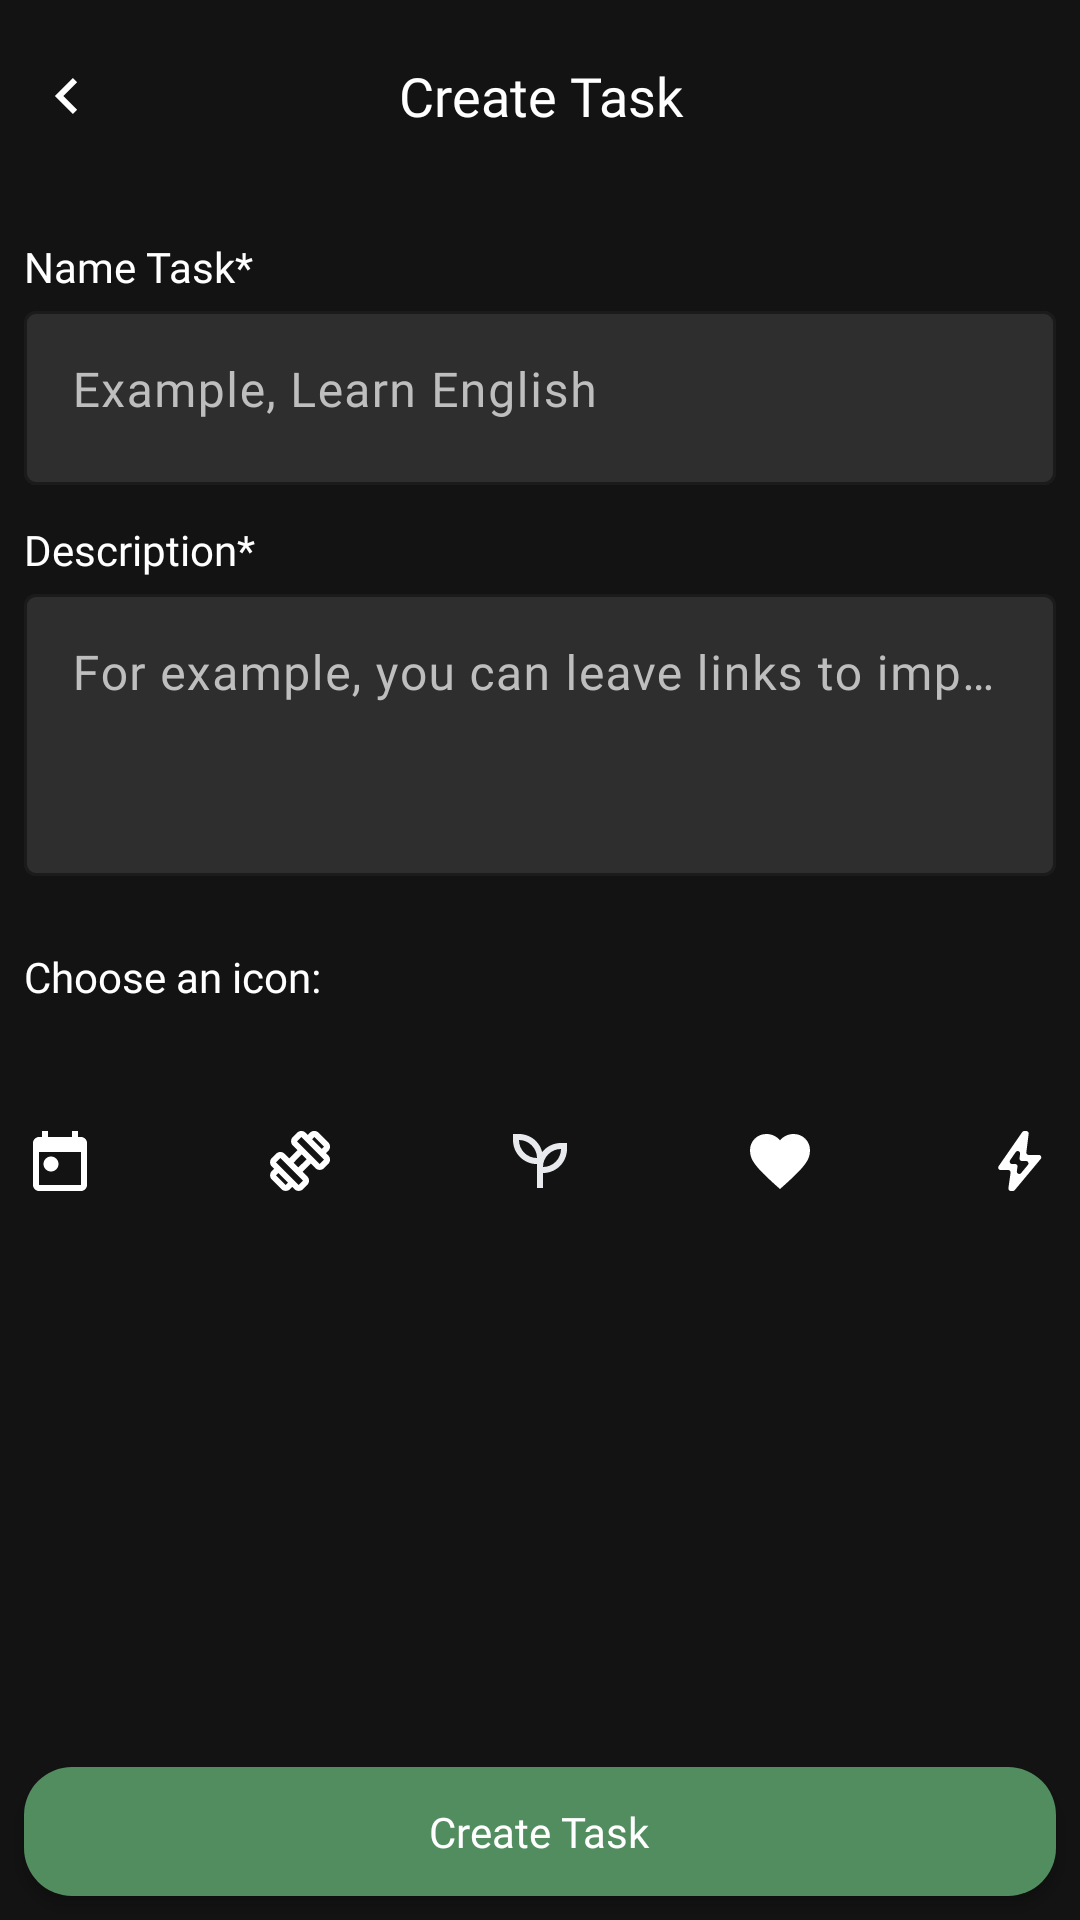

Screen size 1080 x 1920. Icon name, then its center in pixels as (x=x, y=y):
navigate back: (x=66, y=96)
